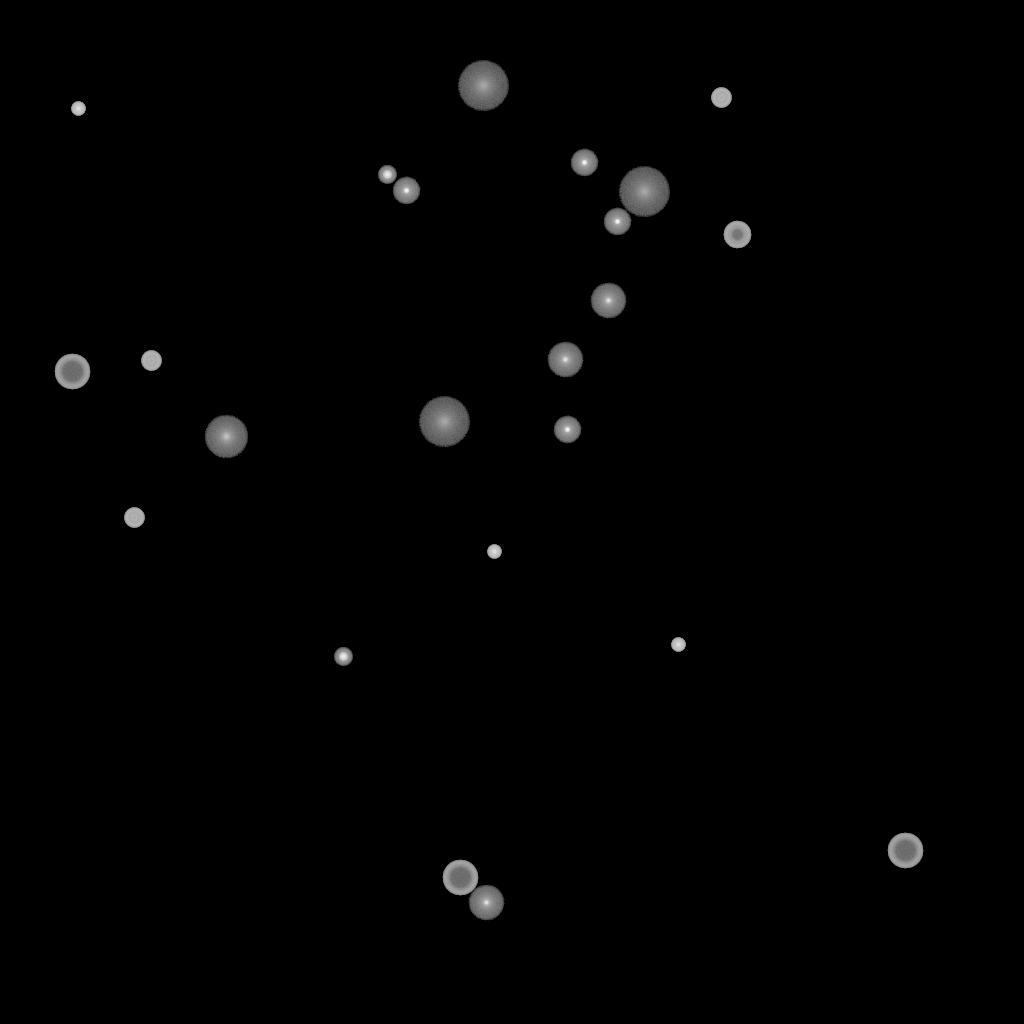depth:-10: (392, 177, 420, 205), (570, 149, 598, 177), (553, 416, 581, 444), (603, 208, 631, 236)
depth:-20: (334, 648, 352, 666), (378, 166, 396, 184)
depth:-30: (487, 545, 501, 559), (71, 102, 85, 116), (671, 638, 685, 652)
depth:-40: (711, 88, 731, 108), (141, 351, 161, 371), (124, 508, 144, 528)
depth:-50: (723, 221, 751, 249)
depth:-60: (54, 354, 90, 390), (442, 860, 478, 896), (887, 833, 923, 869)
depth:0: (468, 885, 504, 921), (590, 283, 626, 319), (547, 342, 583, 378)
depth:10: (204, 415, 248, 459)
depth:20: (618, 167, 670, 217), (418, 397, 470, 447), (457, 61, 509, 111)
